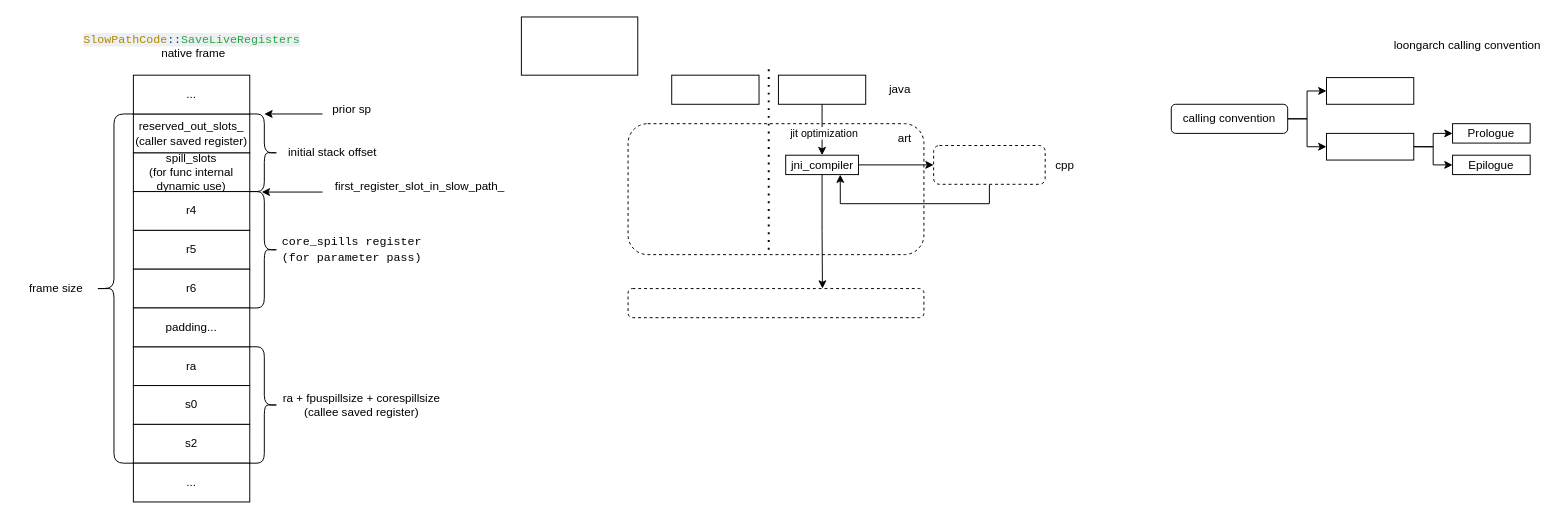
The diagram is 1566 pixels wide and 519 high, and some of its shapes have lost their labels. Each missing label, with the box of its shape:
art method: (671, 74, 759, 104)
Callee Rule: (1326, 132, 1414, 160)
Caller Rule: (1326, 77, 1414, 104)
jni function (native library): (933, 145, 1045, 184)
machine code: (627, 288, 924, 318)
native method: (777, 74, 866, 104)
问题： 1. static call 2. tail call: (520, 16, 638, 75)
